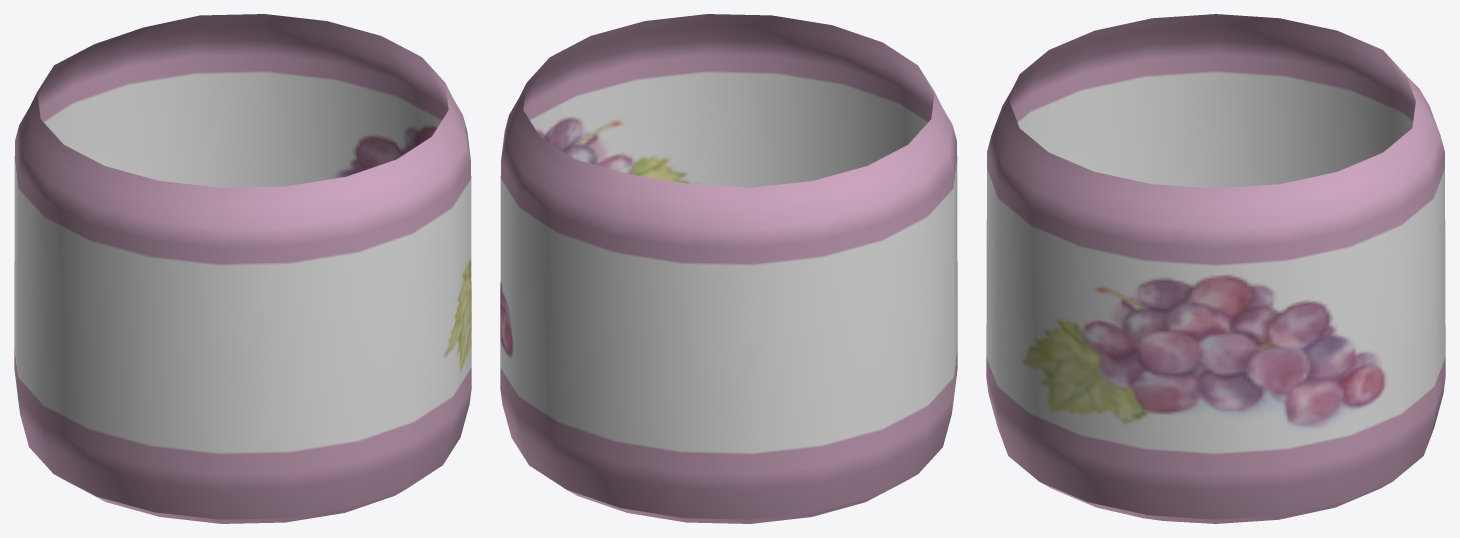
The model's file is jam1.obj.
3 views of the same model, side by side, from view 1: azimuth 30°, elevation 25°; view 2: azimuth 150°, elevation 25°; view 3: azimuth 270°, elevation 25° (orthographic).
Visible parts, largest first — view 1: polySurface1 group62; view 2: polySurface1 group62; view 3: polySurface1 group62.
Part boxes in pixels (bbox=[...]): polySurface1 group62: bbox=[14, 14, 471, 523]; polySurface1 group62: bbox=[500, 14, 957, 523]; polySurface1 group62: bbox=[986, 14, 1445, 523].
Bounding box in the file's own units: 16.67 × 13.49 × 16.67.
